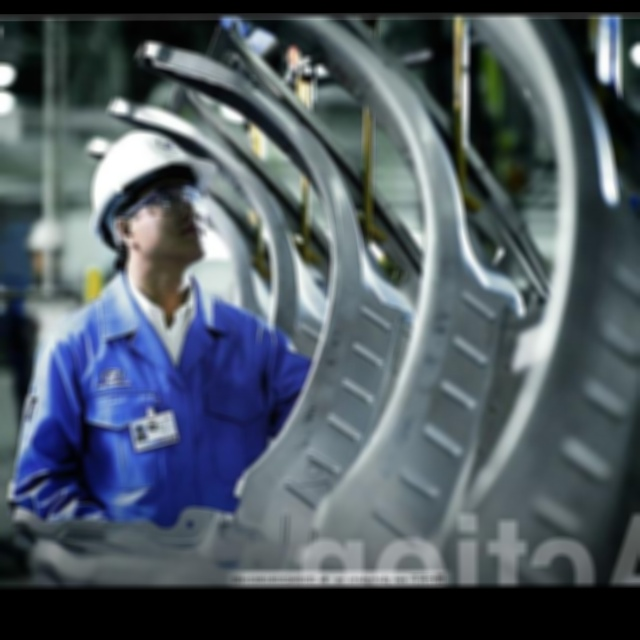Con_Casco: (91, 127, 217, 267)
